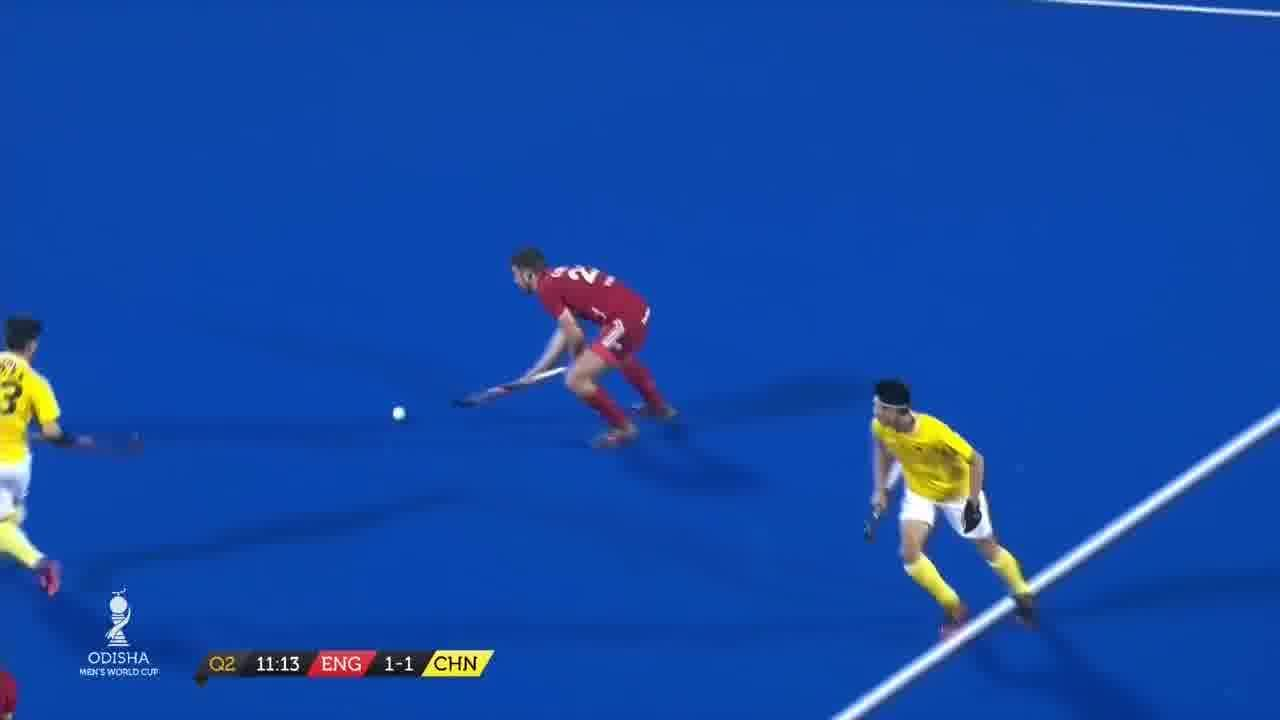ball: (387, 400, 414, 429)
